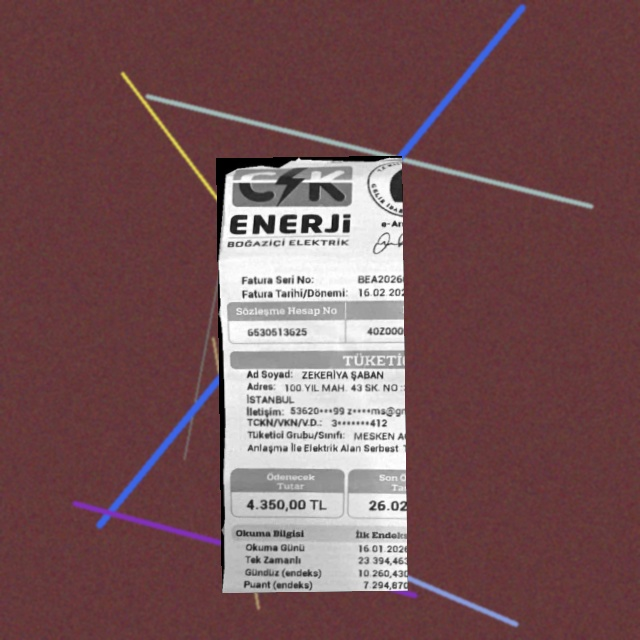electricity-bill: (216, 155, 408, 593)
